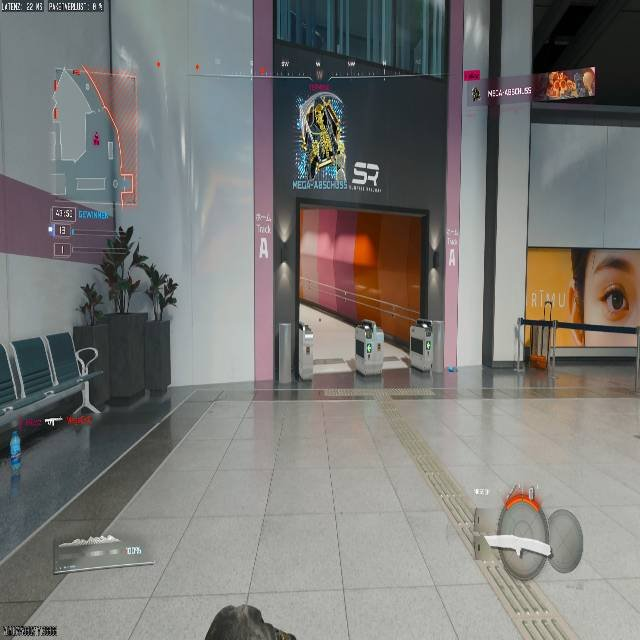head: (100, 227, 134, 281), (113, 225, 132, 244)
player: (90, 226, 176, 320)
